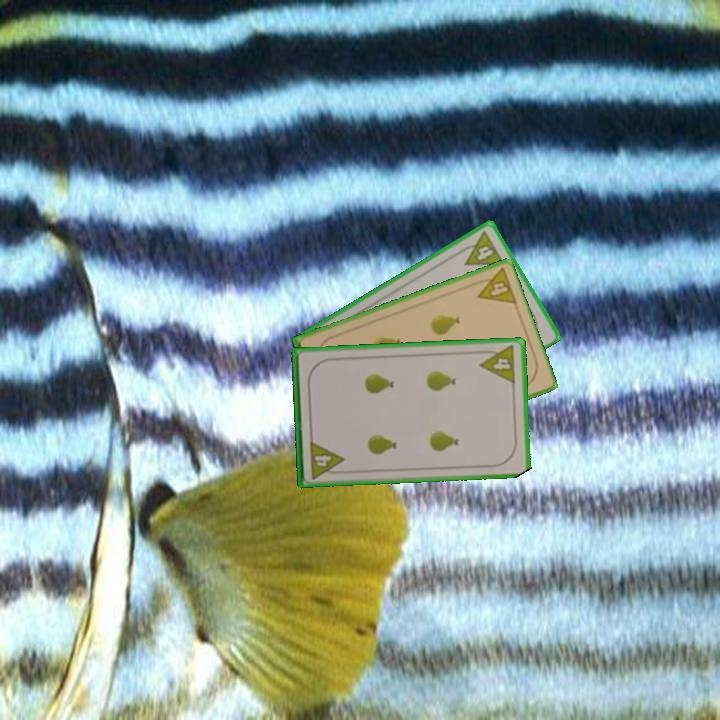4p: (455, 227, 508, 269), (468, 264, 519, 307), (476, 342, 518, 386), (306, 437, 347, 481)
